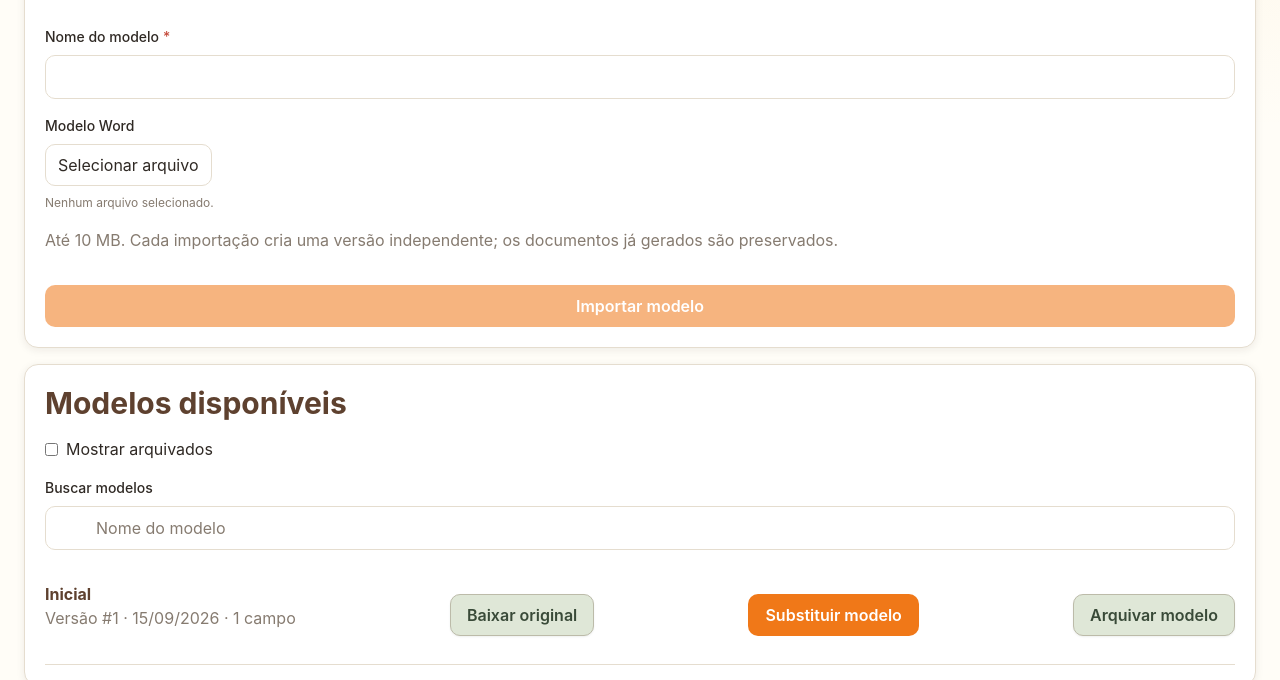
Test: Modelos Word em Configurações › requires confirmation to remove and uses the server archive result
(page scrolled)
What coordinates should you click on to do the following:
click the button "Arquivar modelo"
I would click on:
 (1154, 615)
Its box is [1073,594,1235,636].
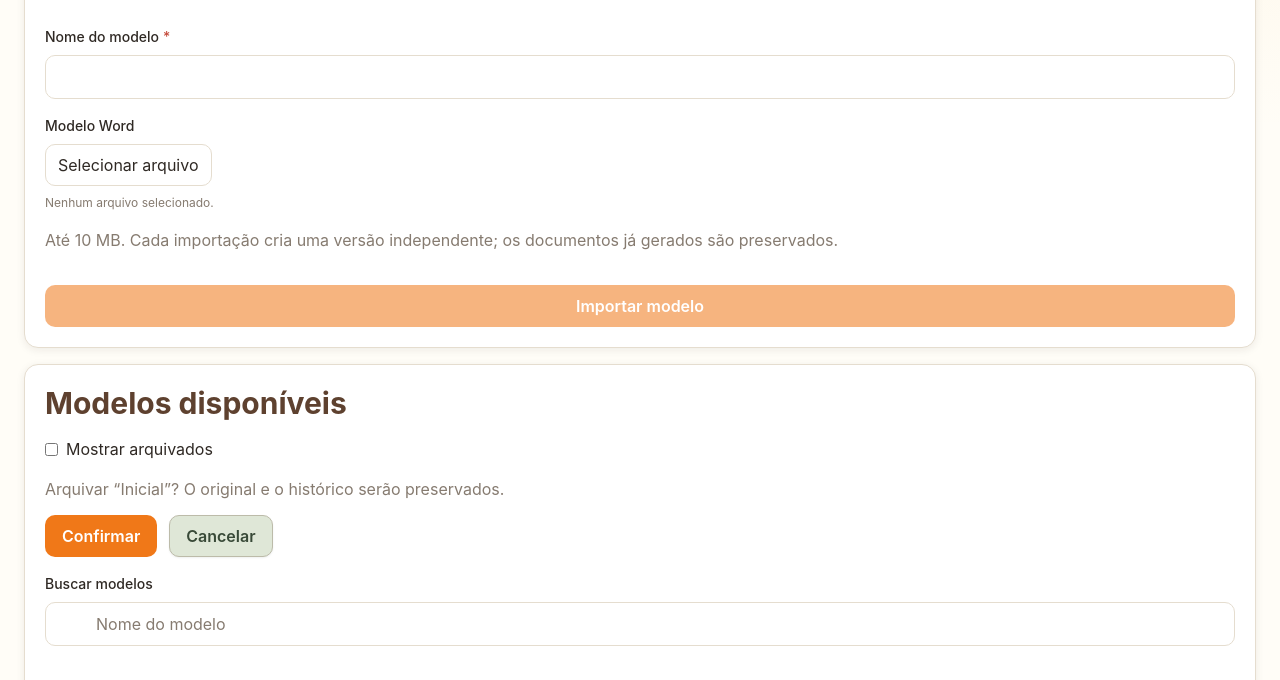
What coordinates should you click on to do the following:
click the button "Confirmar"
I would click on:
 (101, 536)
Its box is [45,515,157,557].
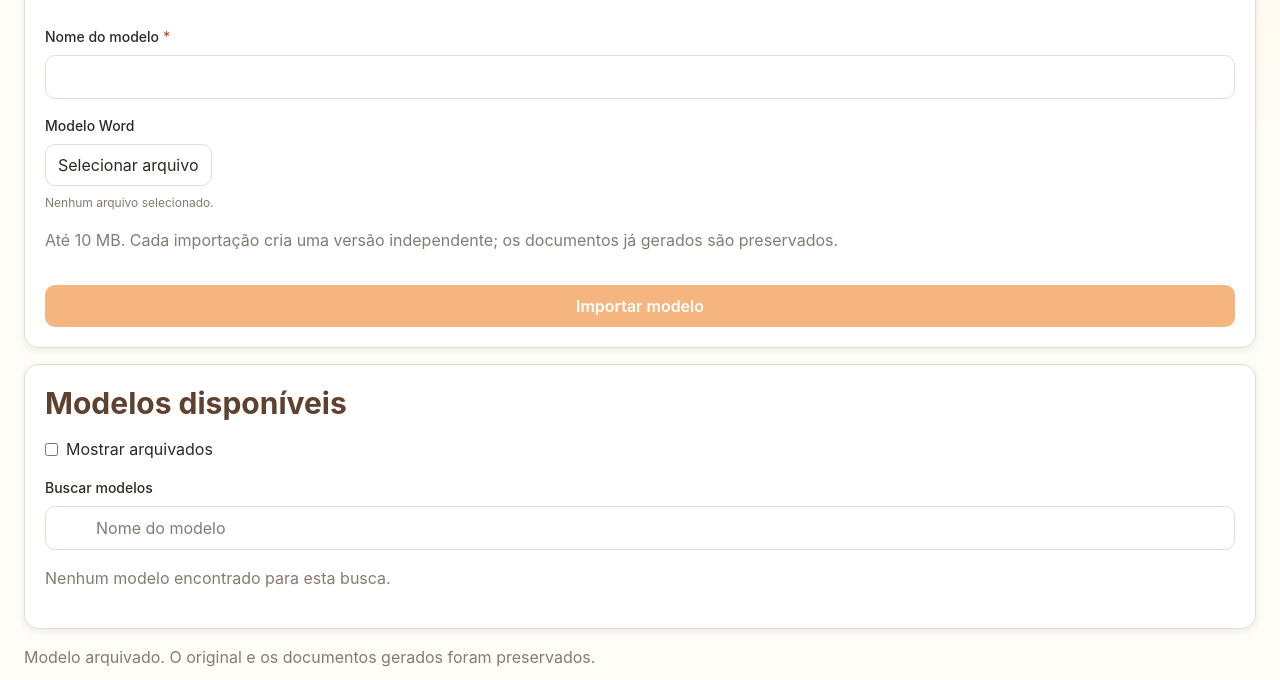
Result: no list items are shown
What coordinates should you click on to do the following:
click the checkbox labelled "Mostrar arquivados"
I would click on:
 (52, 449)
Its box is [45,443,58,456].
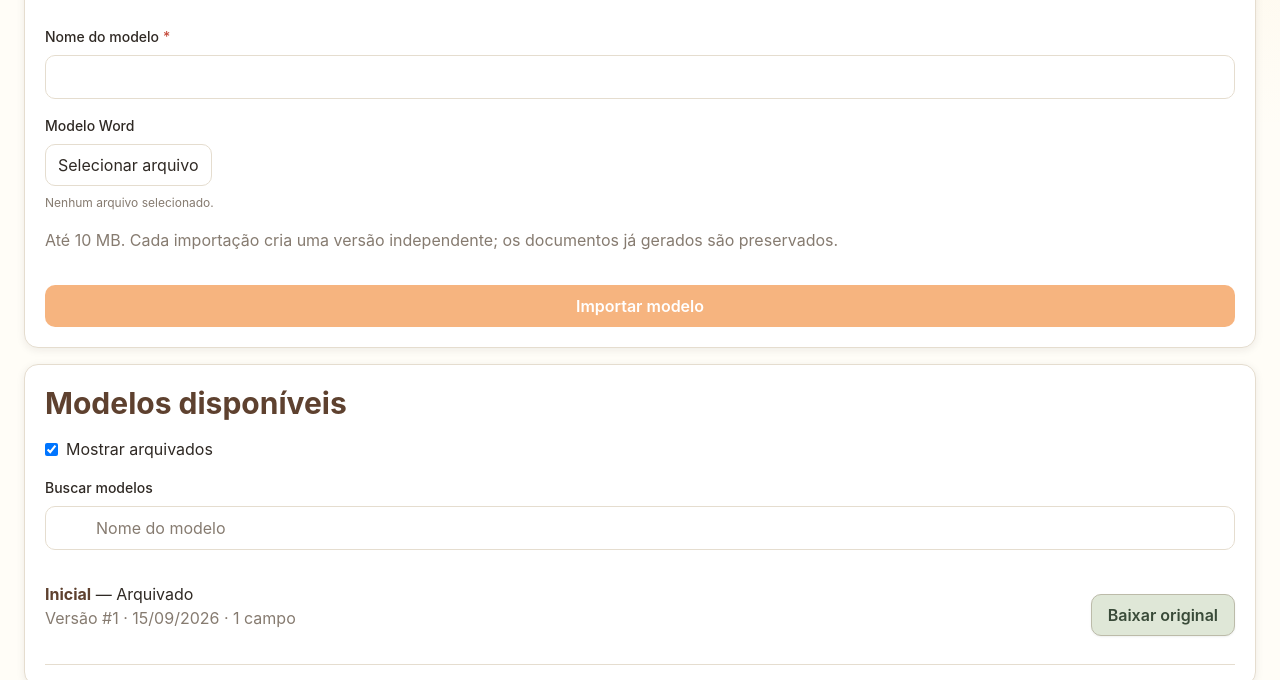
Result: the button "Baixar original" is shown at [1091,594,1235,636]
